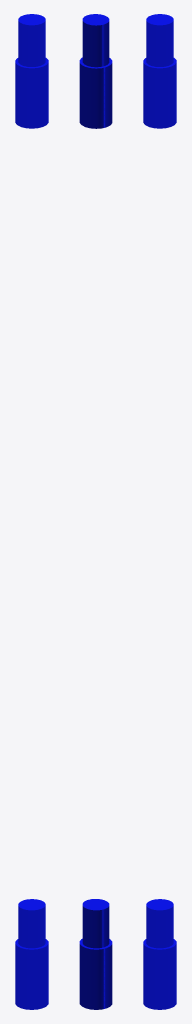
File: HINGE.fbx
3 renders of one model, left to right at view 1: azimuth 90°, elevation 25°; view 2: azimuth 210°, elevation 25°; view 3: azimuth 270°, elevation 25°, orthographic.
Parts seen in each view (by area): view 1: Object001; view 2: Object001; view 3: Object001.
Part boxes in pixels (x1,y1,x2,y2): Object001: (15, 14, 48, 1009); Object001: (79, 14, 112, 1009); Object001: (143, 14, 176, 1009).
Size of the model in its own units: 0.0538 by 1.78 by 0.0544.
